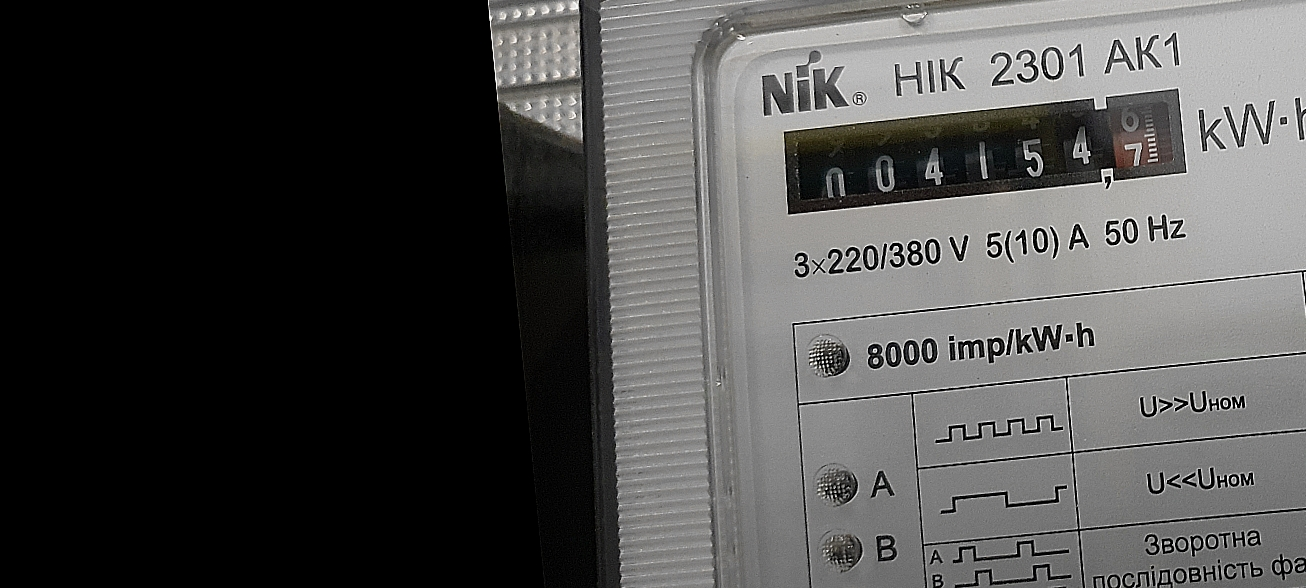0: (871, 151, 898, 194), (822, 162, 848, 198)
1: (975, 138, 992, 181)
4: (1068, 121, 1093, 167), (920, 144, 946, 187)
5: (1019, 132, 1048, 179)
6: (1118, 102, 1143, 133)
7: (1122, 138, 1145, 168)
screen: (763, 72, 1206, 229)
